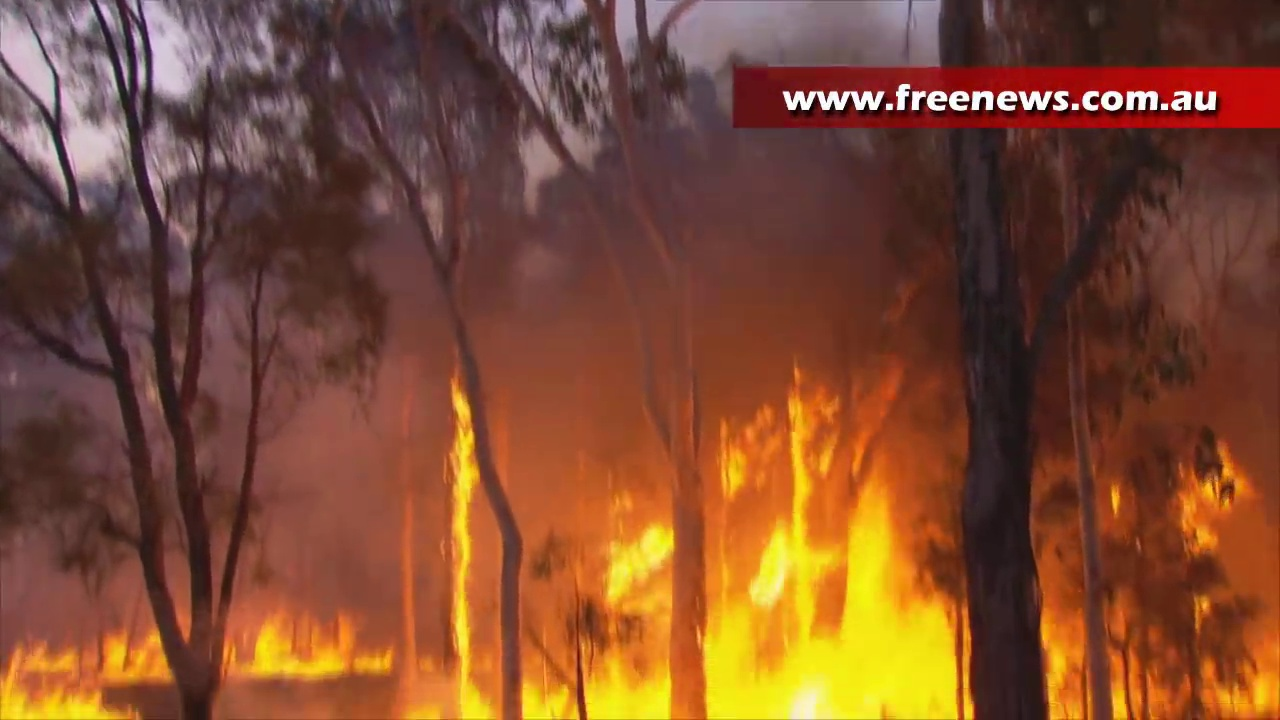fire: (701, 391, 970, 720), (3, 640, 161, 720), (225, 618, 386, 678), (453, 391, 477, 720), (604, 526, 673, 609)
